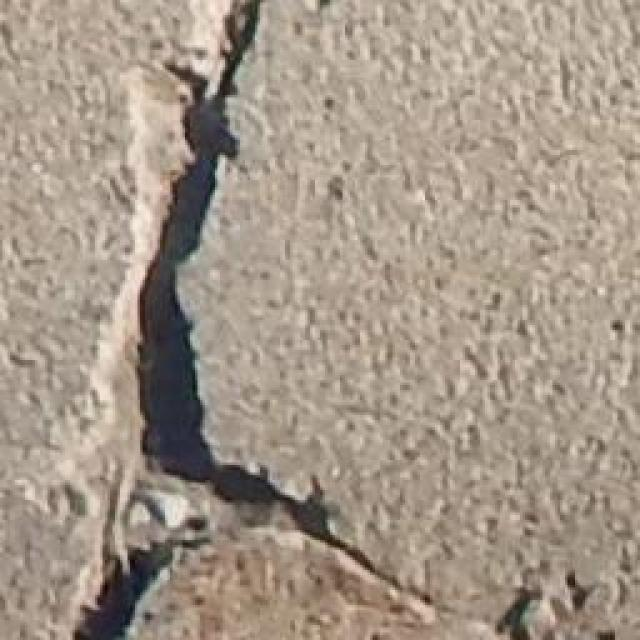concrete-crack: (63, 2, 606, 640)
